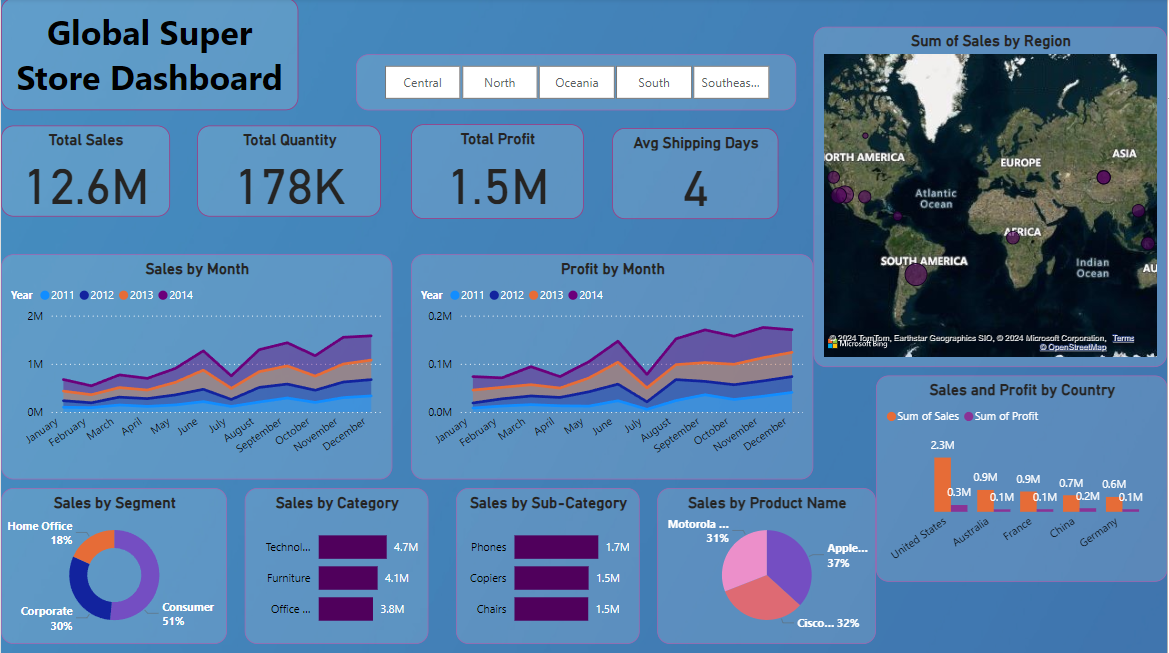

The page's visual inventory and layout, read from the dashboard file:
{"tool":"powerbi","page":{"name":"Page 1","canvas":[1280,720],"ordinal":0},"visuals":[{"type":"textbox","box":[0,0,326.6,123.5],"z":1000},{"type":"card","title":"Total Sales","fields":{"Values":["Sum(Orders.Sales)"]},"box":[0,140,185.2,100.2],"z":2000},{"type":"stackedAreaChart","title":"Sales by Month ","fields":{"Category":["Orders.Order Date.Variation.Date Hierarchy.Month"],"Y":["Sum(Orders.Sales)"],"Series":["Orders.Order Date.Variation.Date Hierarchy.Year"]},"box":[0,281.3,429.5,247],"z":2002},{"type":"card","title":"Total Quantity","fields":{"Values":["Sum(Orders.Quantity)"]},"box":[215.4,140,201.7,100.2],"z":2003},{"type":"card","title":"Total Profit","fields":{"Values":["Sum(Orders.Profit)"]},"box":[450.1,138.6,189.4,104.3],"z":2004},{"type":"stackedAreaChart","title":"Profit by Month ","fields":{"Category":["Orders.Order Date.Variation.Date Hierarchy.Month"],"Series":["Orders.Order Date.Variation.Date Hierarchy.Year"],"Y":["Sum(Orders.Profit)"]},"box":[450.1,281.3,441.9,247],"z":2005},{"type":"map","fields":{"Category":["Orders.Region"],"Size":["Sum(Orders.Sales)"]},"box":[891.9,31.6,388.3,373.2],"z":2006},{"type":"donutChart","title":"Sales by Segment","fields":{"Category":["Orders.Segment"],"Y":["Sum(Orders.Sales)"]},"box":[0,537.9,248.4,171.5],"z":2007},{"type":"barChart","title":"Sales by Category","fields":{"Category":["Orders.Category"],"Y":["Sum(Orders.Sales)"]},"box":[267.6,537.9,201.7,171.5],"z":2008},{"type":"barChart","title":"Sales by Sub-Category","fields":{"Category":["Orders.Sub-Category","Orders.Category"],"Y":["Sum(Orders.Sales)"]},"box":[499.5,537.9,201.7,171.5],"z":2009},{"type":"card","title":"Avg Shipping Days","fields":{"Values":["Avg(Orders.AvgShippingdays)"]},"box":[671,142.7,182.5,100.2],"z":2010},{"type":"slicer","fields":{"Values":["Orders.Region"]},"box":[389.7,61.7,483,61.7],"z":2011},{"type":"clusteredColumnChart","title":"Sales and  Profit by Country","fields":{"Category":["Orders.Country"],"Y":["Sum(Orders.Sales)","Sum(Orders.Profit)"]},"box":[960.6,414.4,319.7,226.4],"z":2012},{"type":"pieChart","title":"Sales by Product Name","fields":{"Category":["Orders.Product Name"],"Y":["Sum(Orders.Sales)"]},"box":[720.4,537.9,240.1,171.5],"z":2013}]}

Visuals, with their boxes in screenshot pixels (x1, y1, x2, y2), scaled from the page's 1280x720 canvas onto the 1169x653 screenshot:
textbox: x1=0, y1=0, x2=298, y2=112
"Total Sales" card: x1=0, y1=127, x2=169, y2=218
"Sales by Month " stackedAreaChart: x1=0, y1=255, x2=392, y2=479
"Total Quantity" card: x1=197, y1=127, x2=381, y2=218
"Total Profit" card: x1=411, y1=126, x2=584, y2=220
"Profit by Month " stackedAreaChart: x1=411, y1=255, x2=815, y2=479
map - Orders.Region x Sum(Orders.Sales): x1=815, y1=29, x2=1168, y2=367
"Sales by Segment" donutChart: x1=0, y1=488, x2=227, y2=643
"Sales by Category" barChart: x1=244, y1=488, x2=429, y2=643
"Sales by Sub-Category" barChart: x1=456, y1=488, x2=640, y2=643
"Avg Shipping Days" card: x1=613, y1=129, x2=779, y2=220
slicer - Orders.Region: x1=356, y1=56, x2=797, y2=112
"Sales and  Profit by Country" clusteredColumnChart: x1=877, y1=376, x2=1168, y2=581
"Sales by Product Name" pieChart: x1=658, y1=488, x2=877, y2=643
